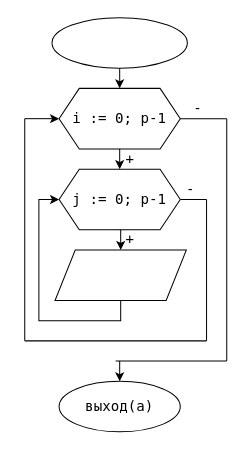
This 245x449 diagram has some shape labels left out. Each missing label, with the box of its shape:
read_matrix: (51, 17, 187, 68)
вв a i,j: (54, 249, 186, 300)
